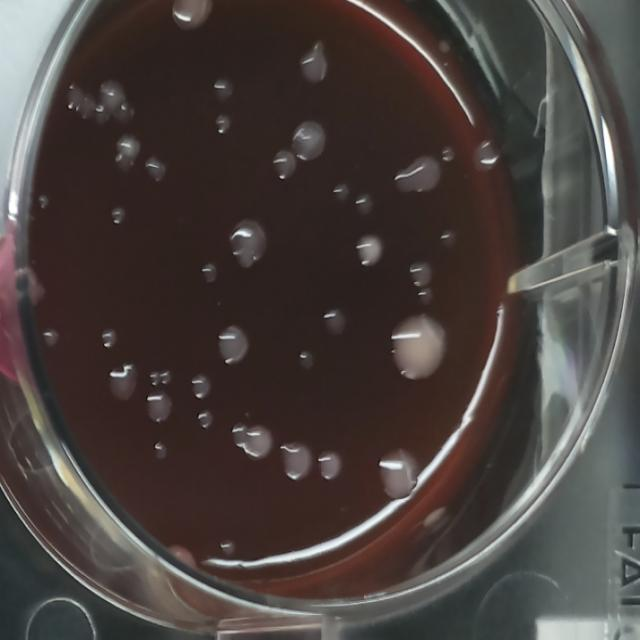Bacillus: (386, 309, 451, 386)
